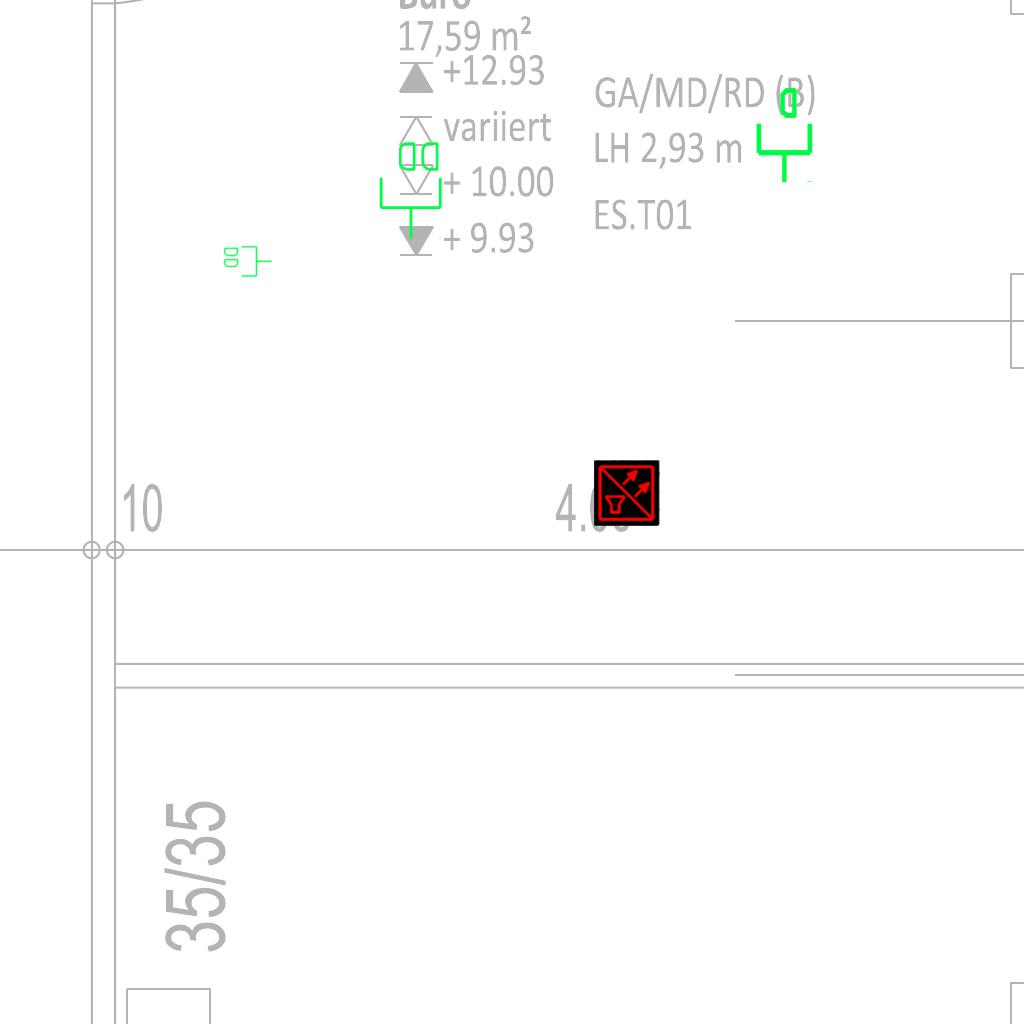Datenanschluss_einfach: (748, 85, 817, 185)
Datenanschluss_zweifach: (377, 138, 446, 241), (222, 244, 273, 278)
OKW_Multisensormelder_(Kombination_optischer_Rauch-Kahlenmonoxid_Waerme-Melder): (594, 460, 660, 526)
